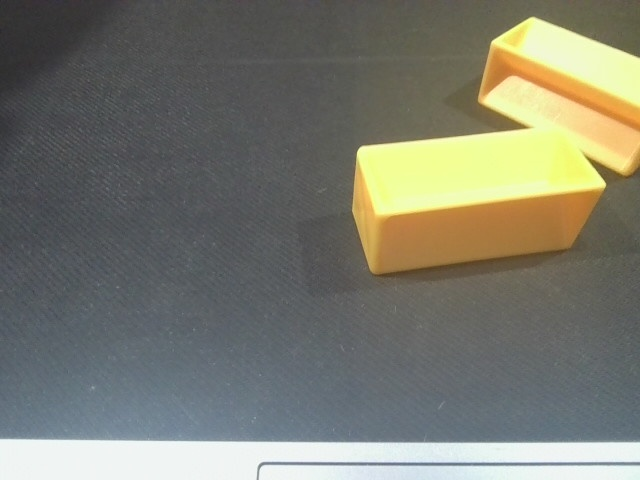YellowSample: (334, 122, 609, 278), (472, 17, 640, 177)
